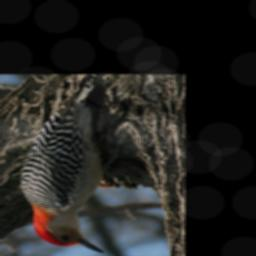Woodpecker: (17, 77, 121, 255)
